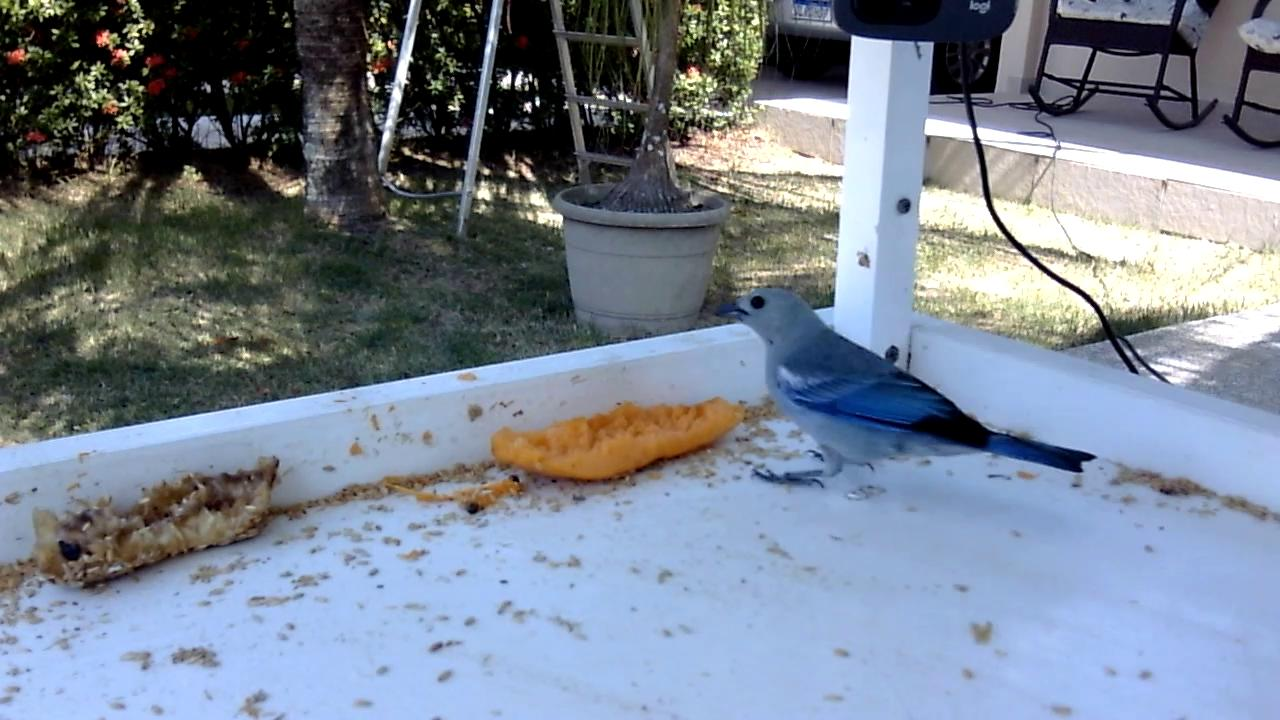sanhaco_da_amazonia: (711, 283, 1100, 498)
